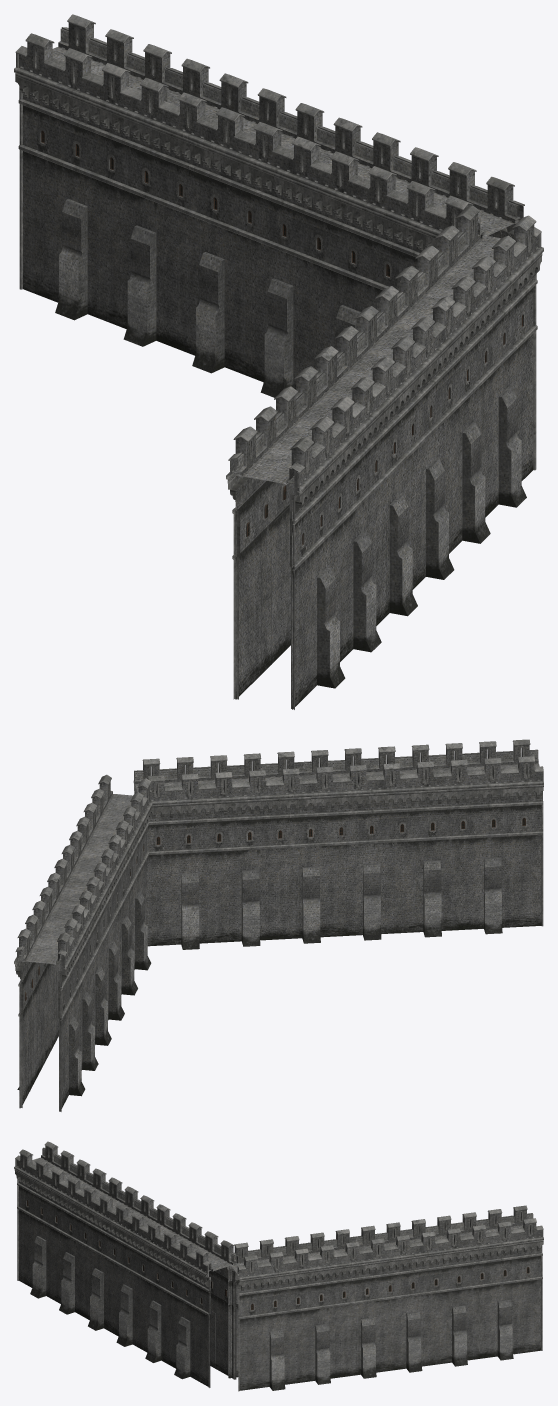
The model's file is Castle_Wall_B_Straight05.fbx.
3 renders of one model, top to bottom at view 1: azimuth 30°, elevation 25°; view 2: azimuth 150°, elevation 25°; view 3: azimuth 270°, elevation 25°, orthographic. The views are drawn at different scales.
Visible parts, largest first — view 1: Castle_Wall_B_Straight.005; view 2: Castle_Wall_B_Straight.005; view 3: Castle_Wall_B_Straight.005.
Part boxes in pixels (box(x1,y1,x2,y2)): Castle_Wall_B_Straight.005: box(14, 14, 543, 709); Castle_Wall_B_Straight.005: box(14, 739, 543, 1111); Castle_Wall_B_Straight.005: box(14, 1141, 543, 1391).
Size of the model in its own units: 2723 by 1383 by 4985.
